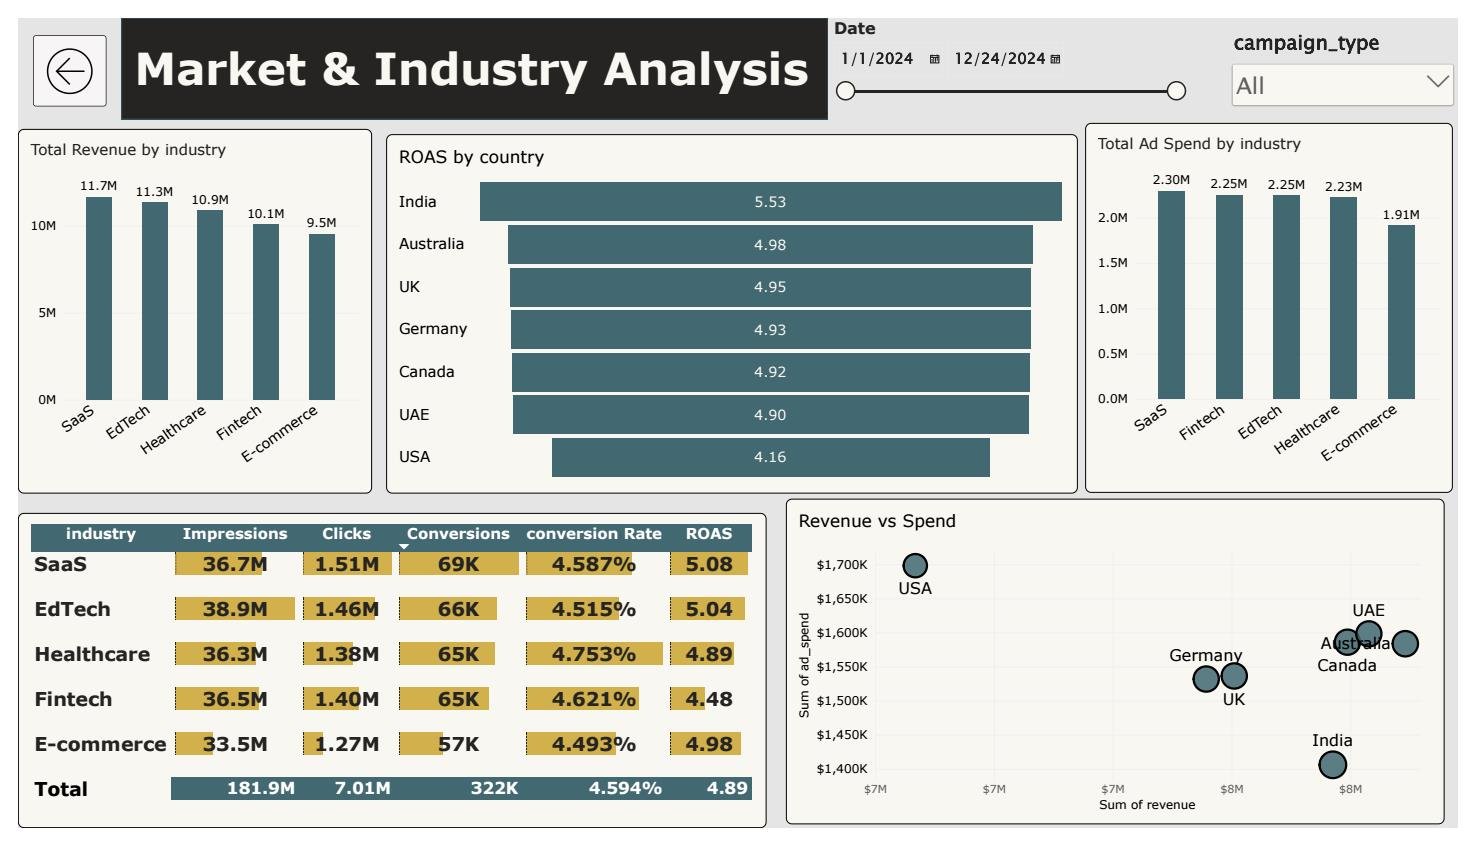

The page's visual inventory and layout, read from the dashboard file:
{"tool":"powerbi","page":{"name":"Market & Industry Insights","canvas":[1920,1080],"ordinal":3},"visuals":[{"type":"shape","box":[137.5,0,942.5,135],"z":0},{"type":"textbox","box":[100,30,1010,77.5],"z":1000},{"type":"slicer","fields":{"Values":["global_ads_performance_dataset.date"]},"box":[1080,0,487.5,160],"z":2000},{"type":"scatterChart","title":"Revenue vs Spend ","fields":{"Category":["global_ads_performance_dataset.country"],"Size":["ads measures.ROAS"],"X":["Sum(global_ads_performance_dataset.revenue)"],"Y":["Sum(global_ads_performance_dataset.ad_spend)"]},"box":[1023.7,641,878.1,434.3],"z":3000},{"type":"funnel","title":"ROAS by country","fields":{"Category":["global_ads_performance_dataset.country"],"Y":["ads measures.ROAS"]},"box":[490.7,155,922.7,479],"z":4000},{"type":"pivotTable","fields":{"Rows":["global_ads_performance_dataset.industry"],"Values":["ads measures.Total Impressions","ads measures.Total Clicks","ads measures.Total Conversions","ads measures.conversion Rate","ads measures.ROAS"]},"box":[0,659.7,997.8,420.3],"z":5000},{"type":"slicer","fields":{"Values":["global_ads_performance_dataset.campaign_type"]},"box":[1612.5,12.5,307.5,135],"z":6000},{"type":"columnChart","fields":{"Category":["global_ads_performance_dataset.industry"],"Y":["ads measures.Total Revenue"]},"box":[0,147.9,471.9,486],"z":7000},{"type":"actionButton","box":[20,22.5,97.5,95],"z":8000},{"type":"columnChart","fields":{"Category":["global_ads_performance_dataset.industry"],"Y":["ads measures.Total Ad Spend"]},"box":[1422.5,140,490,492.5],"z":9000}]}

Visuals, with their boxes in screenshot pixels (x1, y1, x2, y2), scaled from the page's 1920x1080 canvas onto the 1476x846 screenshot:
shape: Rect(106, 0, 830, 106)
textbox: Rect(77, 24, 853, 84)
slicer - global_ads_performance_dataset.date: Rect(830, 0, 1205, 125)
"Revenue vs Spend " scatterChart: Rect(787, 502, 1462, 842)
"ROAS by country" funnel: Rect(377, 121, 1087, 497)
pivotTable - global_ads_performance_dataset.industry x ads measures.Total Impressions: Rect(0, 517, 767, 845)
slicer - global_ads_performance_dataset.campaign_type: Rect(1240, 10, 1475, 116)
columnChart - global_ads_performance_dataset.industry x ads measures.Total Revenue: Rect(0, 116, 363, 497)
actionButton: Rect(15, 18, 90, 92)
columnChart - global_ads_performance_dataset.industry x ads measures.Total Ad Spend: Rect(1094, 110, 1470, 495)
